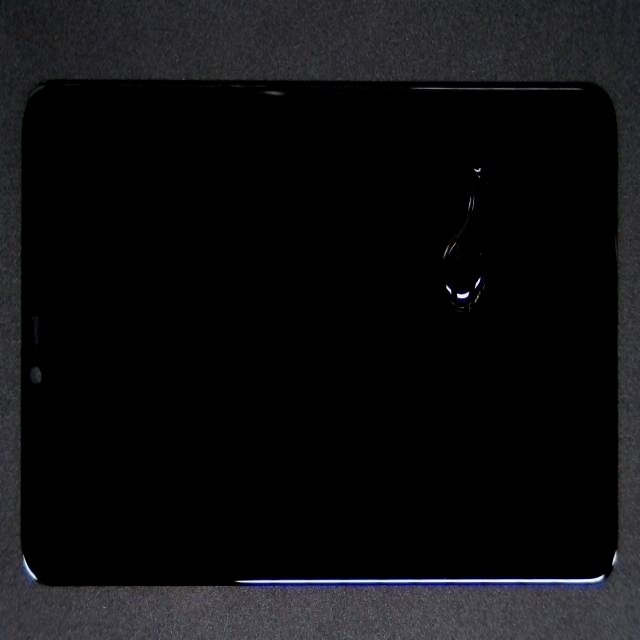oil: (258, 29, 640, 295)
